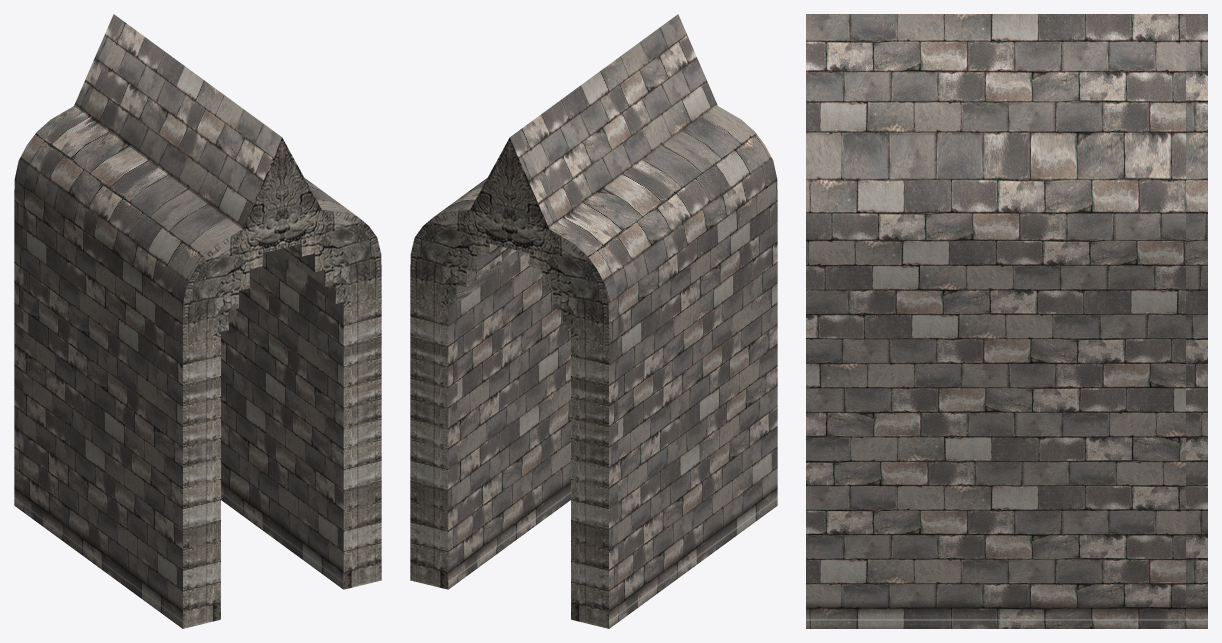
File: Gate_F.FBX
3 renders of one model, left to right at view 1: azimuth 30°, elevation 25°; view 2: azimuth 150°, elevation 25°; view 3: azimuth 270°, elevation 25°, orthographic. The views are drawn at different scales.
Visible parts, largest first — view 1: Gate_F; view 2: Gate_F; view 3: Gate_F.
Boxes of the visible parts, bbox=[...] form: Gate_F: bbox=[14, 14, 381, 628]; Gate_F: bbox=[410, 14, 777, 628]; Gate_F: bbox=[806, 14, 1207, 628].
Size of the model in its own units: 2.59 by 5.82 by 3.81.
